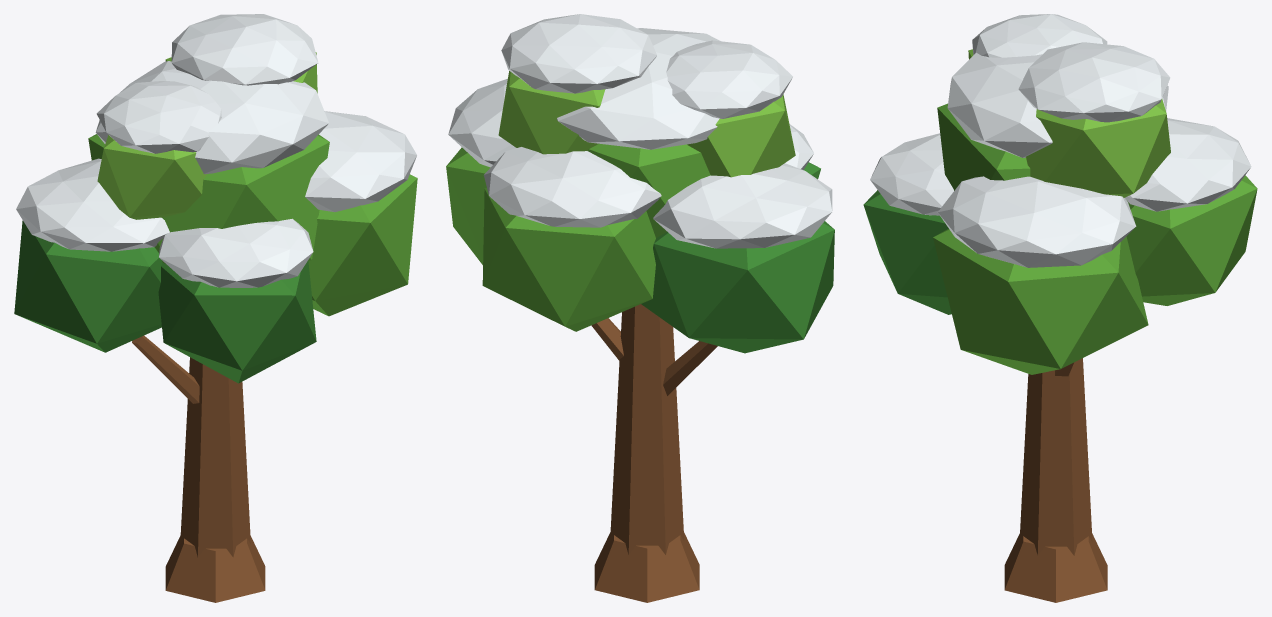
Rendered from broad_tree_snow.glb.
3 renders of one model, left to right at view 1: azimuth 30°, elevation 25°; view 2: azimuth 150°, elevation 25°; view 3: azimuth 270°, elevation 25°, orthographic. The views are drawn at different scales.
Parts seen in each view (by area): view 1: part_crown, broad_tree_snow; view 2: part_crown, broad_tree_snow; view 3: part_crown, broad_tree_snow.
Part boxes in pixels (box(x1,y1,x2,y2)): part_crown: box(14, 14, 417, 383); broad_tree_snow: box(132, 335, 265, 602); part_crown: box(446, 14, 834, 353); broad_tree_snow: box(591, 304, 717, 602); part_crown: box(863, 14, 1257, 374); broad_tree_snow: box(1004, 358, 1107, 602).
Size of the model in its own units: 2.45 by 3.44 by 2.26.
